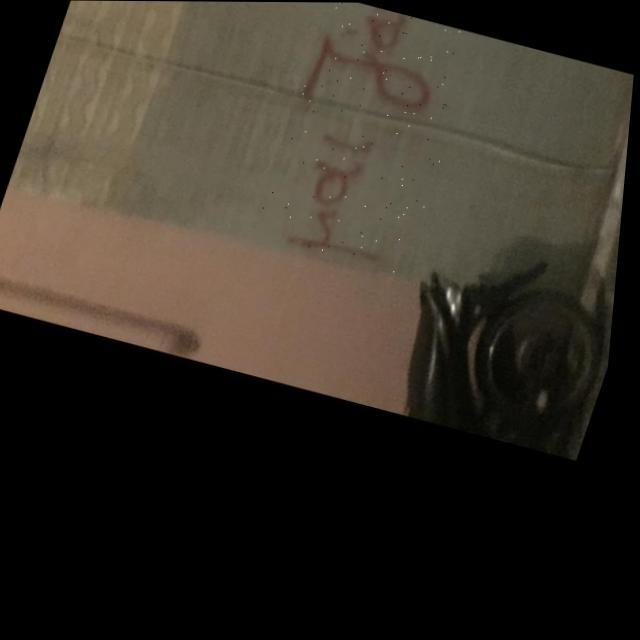-: (254, 2, 489, 276)
